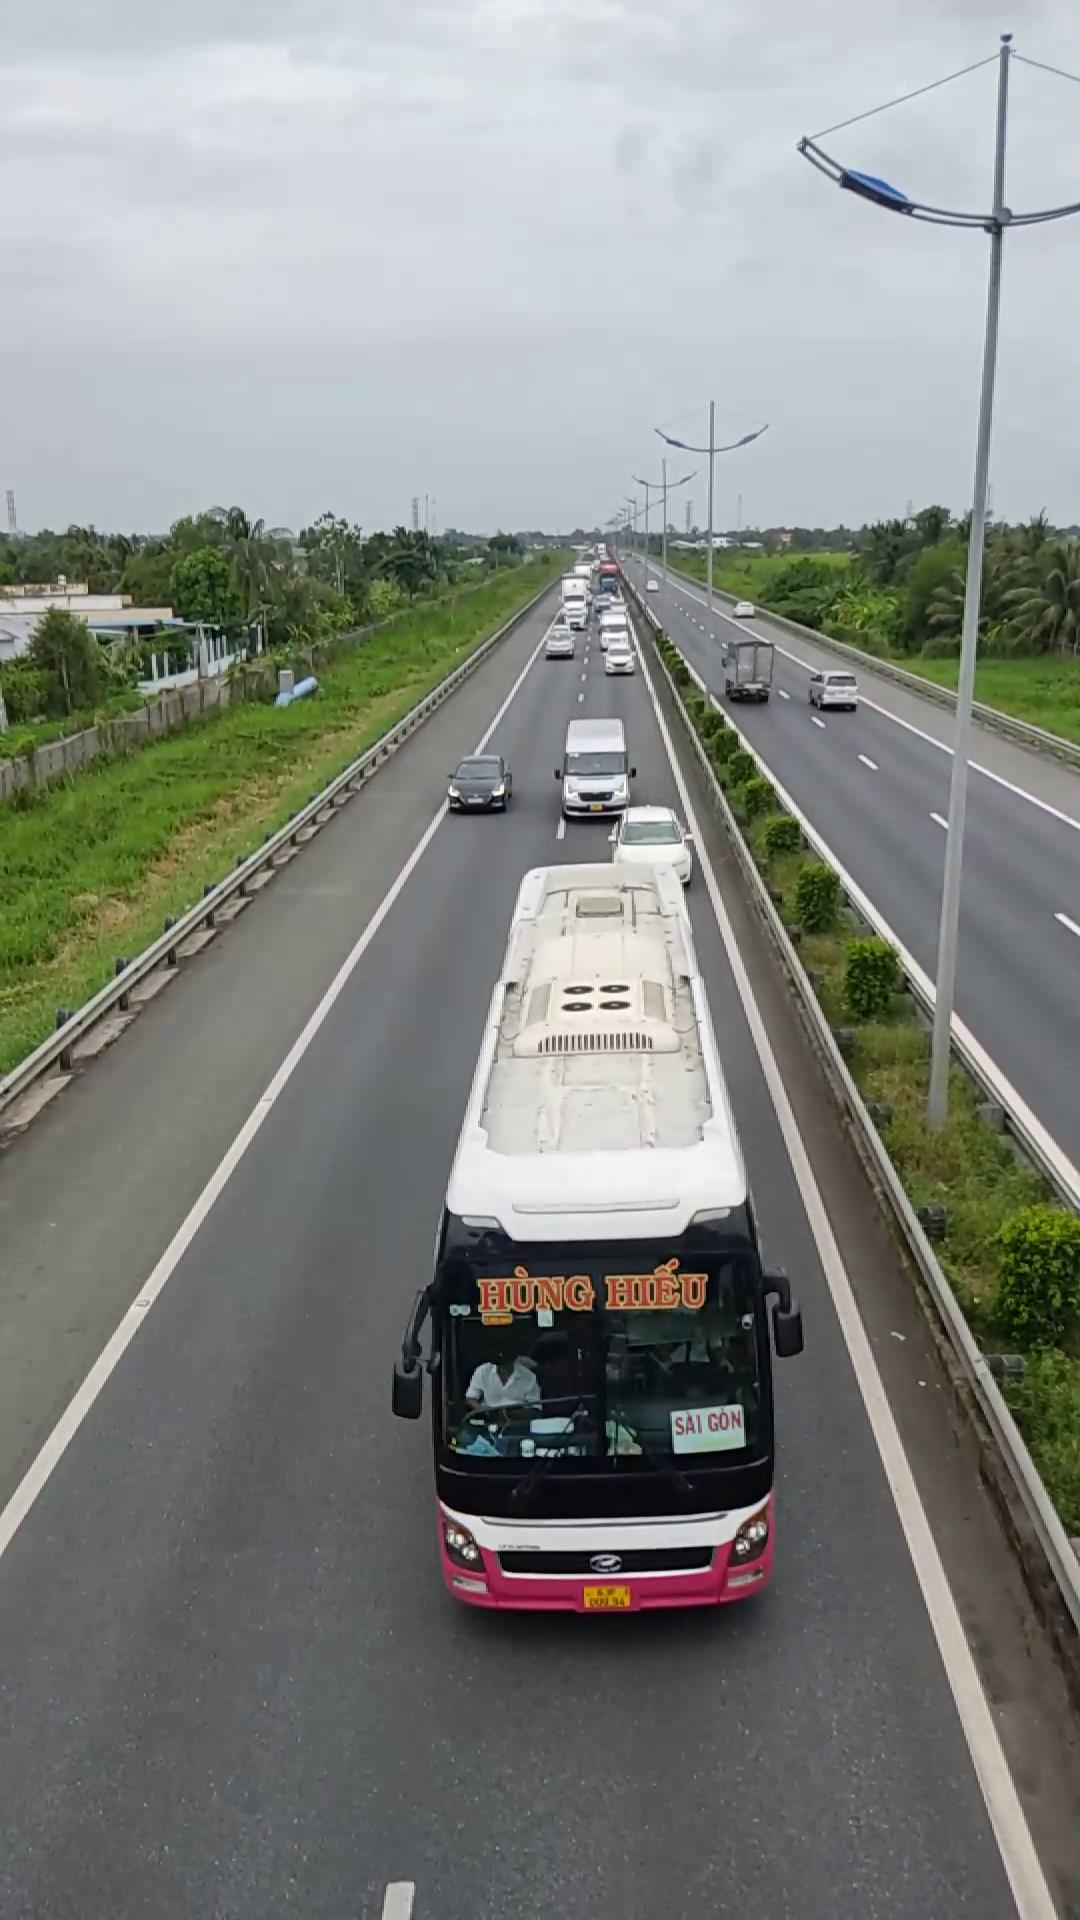bus: (398, 833, 799, 1614)
car: (556, 711, 637, 815), (446, 753, 516, 812)
